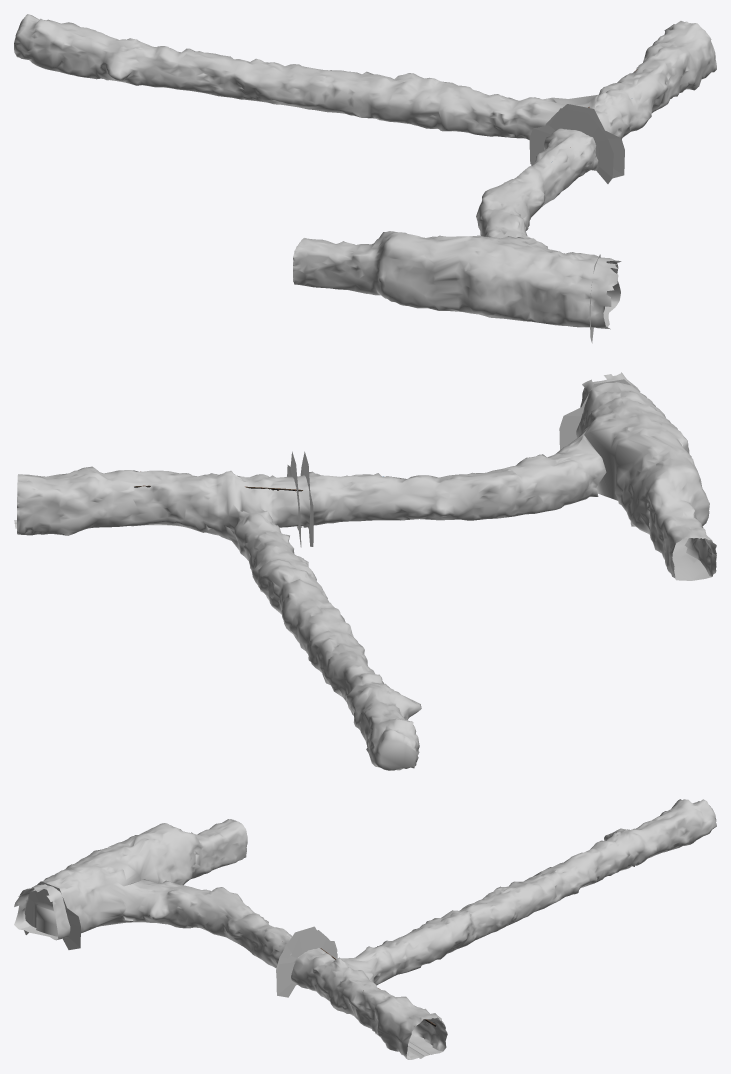
The model's file is Edgar_Section_03.DAE.
The picture shows the model from 3 angles, top to bottom: view 1: azimuth 30°, elevation 25°; view 2: azimuth 150°, elevation 25°; view 3: azimuth 270°, elevation 25°; orthographic projection. The views are drawn at different scales.
Visible parts, largest first — view 1: Section_03_Walls, Section_03_Doors; view 2: Section_03_Walls, Section_03_Doors, Section_03_Ground; view 3: Section_03_Walls, Section_03_Doors, Section_03_Ground.
Boxes of the visible parts, <box> form: Section_03_Walls: <box>14,14,716,329</box>; Section_03_Doors: <box>529,104,624,343</box>; Section_03_Walls: <box>17,372,716,770</box>; Section_03_Doors: <box>287,379,630,547</box>; Section_03_Ground: <box>616,500,711,580</box>; Section_03_Walls: <box>14,799,716,1059</box>; Section_03_Doors: <box>24,881,337,997</box>; Section_03_Ground: <box>19,903,442,1059</box>.
Bounding box in the file's own units: 4032 × 580 × 5408.
